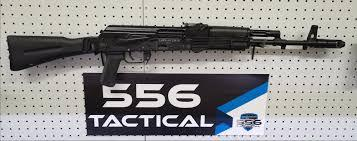larga: (6, 22, 344, 88)
